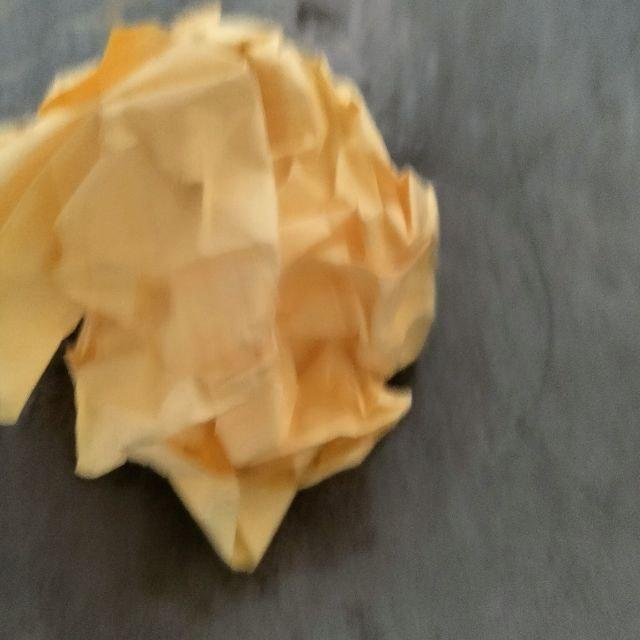paper: (0, 0, 500, 618)
